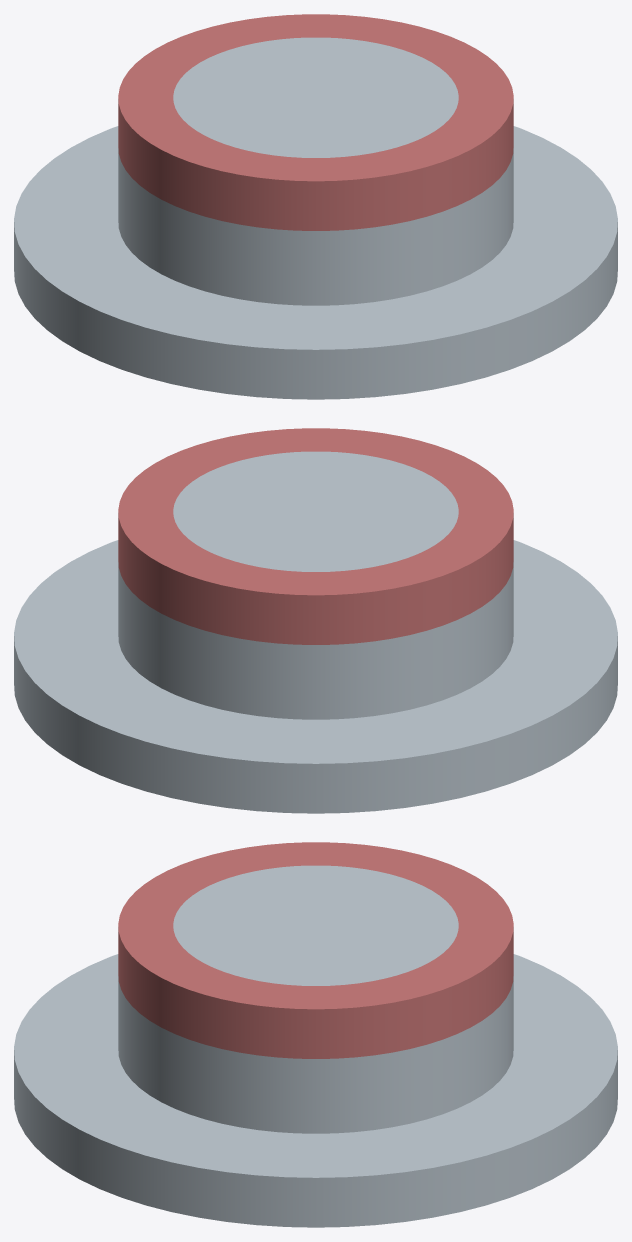
Rendered from step_03.glb.
3 views of the same model, one above another, from view 1: azimuth 30°, elevation 25°; view 2: azimuth 150°, elevation 25°; view 3: azimuth 270°, elevation 25° (orthographic).
Visible parts, largest first — view 1: part__light lens, removed__light lens; view 2: part__light lens, removed__light lens; view 3: part__light lens, removed__light lens.
Boxes of the visible parts, box(x1,y1,x2,y2) form: part__light lens: box(14, 37, 617, 399); removed__light lens: box(118, 14, 513, 230); part__light lens: box(14, 451, 617, 813); removed__light lens: box(118, 428, 513, 644); part__light lens: box(14, 865, 617, 1227); removed__light lens: box(118, 842, 513, 1058).
Size of the model in its own units: 10.99 by 3.5 by 11.
